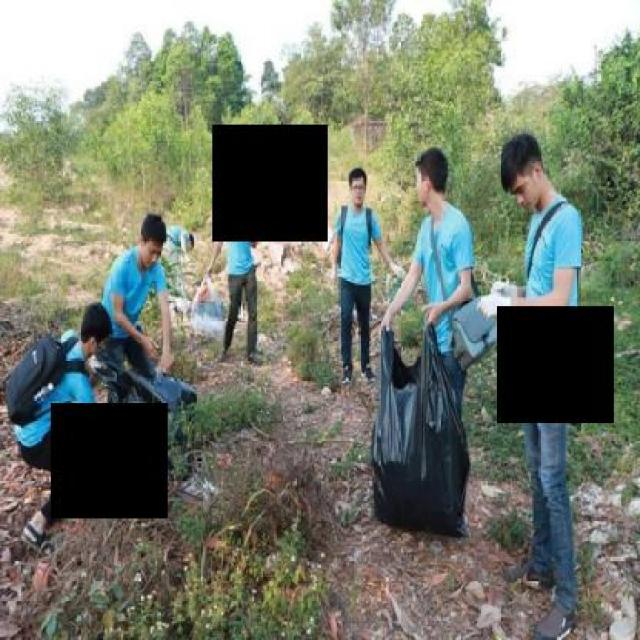plastic bag: (365, 317, 477, 554), (89, 344, 200, 488), (186, 265, 225, 340)
